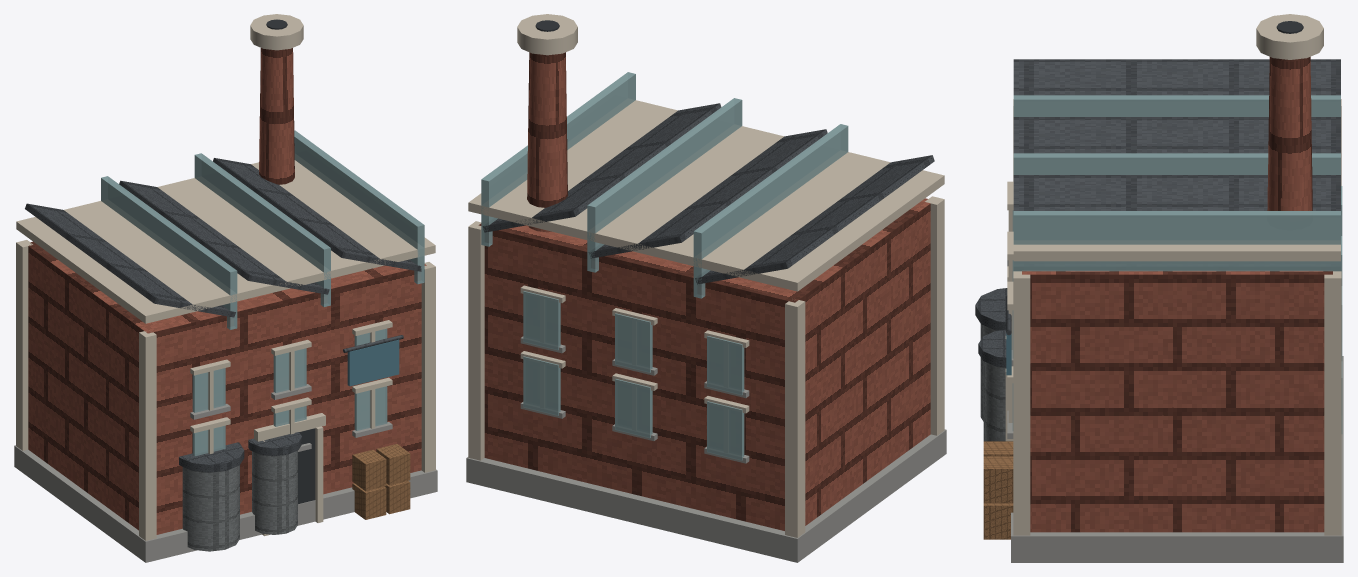
The model's file is procedural_nitrate@5.glb.
The picture shows the model from 3 angles, left to right: view 1: azimuth 30°, elevation 25°; view 2: azimuth 150°, elevation 25°; view 3: azimuth 270°, elevation 25°; orthographic projection. The views are drawn at different scales.
Visible parts, largest first — view 1: part_1, part_2, part_4, part_5, part_6, part_0, part_7, part_8, part_3; view 2: part_1, part_2, part_4, part_0, part_5; view 3: part_1, part_5, part_4, part_2, part_0, part_7, part_6.
Part boxes in pixels (x1,y1,x2,y2): part_1: (28,48,426,534); part_2: (16,14,435,540); part_4: (101,130,424,456); part_5: (25,158,421,472); part_6: (182,450,297,551); part_0: (14,384,437,562); part_7: (352,444,410,519); part_8: (347,339,399,386); part_3: (266,19,315,504); part_1: (478,52,930,530); part_2: (468,14,944,537); part_4: (481,72,848,460); part_0: (466,336,946,562); part_5: (482,103,934,284); part_1: (1022,57,1332,532); part_5: (975,59,1340,367); part_4: (1012,95,1342,433); part_2: (1005,14,1341,535); part_0: (1007,260,1343,562); part_7: (983,441,1013,539); part_6: (980,324,1006,441).
Bounding box in the file's own units: 7.95 × 10.4 × 6.87.
9 materials, 4 textured.
